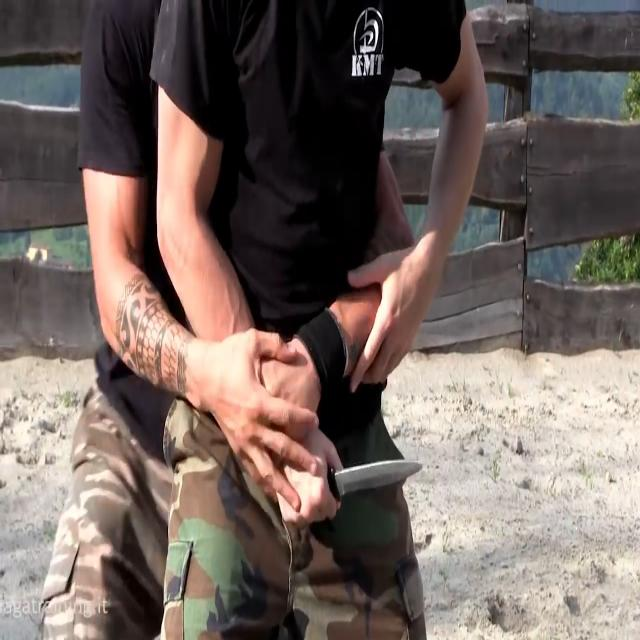knife: (327, 455, 427, 504)
